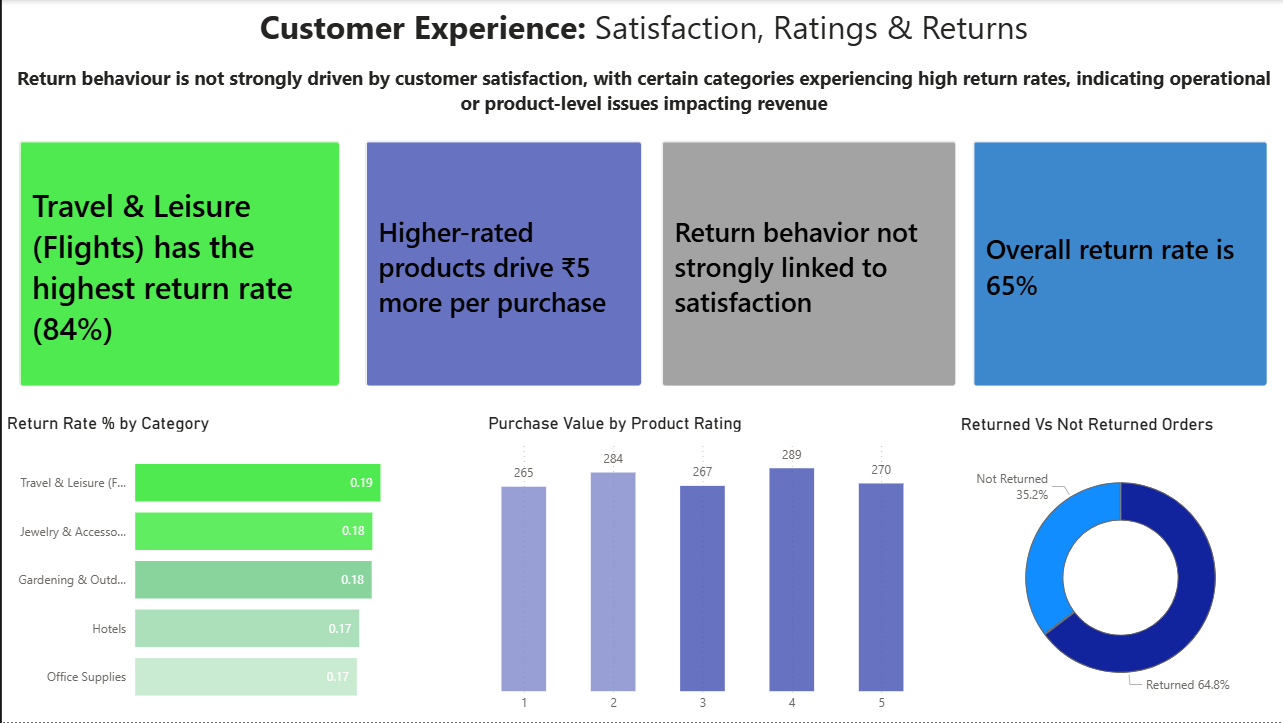

The dashboard page shown, as its layout file describes it:
{"tool":"powerbi","page":{"name":"Customer Experience","canvas":[1280,720],"ordinal":4},"visuals":[{"type":"textbox","box":[0,0,1280.3,123.1],"z":0},{"type":"cardVisual","fields":{"Data":["ecommerce_cleaned.Top Return Category Insight"]},"box":[0,123.1,354,279.1],"z":1000},{"type":"cardVisual","fields":{"Data":["ecommerce_cleaned.Satisfaction Insight"]},"box":[345.1,123.1,310.9,279.1],"z":2000},{"type":"cardVisual","fields":{"Data":["ecommerce_cleaned.Return Behavior Insight"]},"box":[640.8,123.1,328.6,279.1],"z":3000},{"type":"cardVisual","fields":{"Data":["ecommerce_cleaned.Return Rate Insight"]},"box":[951.4,123.1,328.6,279.1],"z":4000},{"type":"barChart","fields":{"Category":["ecommerce_cleaned.Purchase_Category"],"Y":["ecommerce_cleaned.Return Rate %"]},"box":[0,411.7,480.3,308.1],"z":5000},{"type":"columnChart","title":"Purchase Value by Product Rating","fields":{"Category":["ecommerce_cleaned.Product_Rating"],"Y":["ecommerce_cleaned.APV"]},"box":[480.3,411.7,437.5,308.1],"z":6000},{"type":"donutChart","title":"Returned Vs Not Returned Orders","fields":{"Category":["Customer Summary.Customer Return Status"],"Y":["CountNonNull(Customer Summary.Customer_ID)"]},"box":[951,412,329,308],"z":7000}]}

Visuals, with their boxes in screenshot pixels (x1, y1, x2, y2), scaled from the page's 1280x720 canvas onto the 1283x723 screenshot:
textbox: bbox=[0, 0, 1282, 124]
cardVisual - ecommerce_cleaned.Top Return Category Insight: bbox=[0, 124, 355, 404]
cardVisual - ecommerce_cleaned.Satisfaction Insight: bbox=[346, 124, 658, 404]
cardVisual - ecommerce_cleaned.Return Behavior Insight: bbox=[642, 124, 972, 404]
cardVisual - ecommerce_cleaned.Return Rate Insight: bbox=[954, 124, 1282, 404]
barChart - ecommerce_cleaned.Purchase_Category x ecommerce_cleaned.Return Rate %: bbox=[0, 413, 481, 722]
"Purchase Value by Product Rating" columnChart: bbox=[481, 413, 920, 722]
"Returned Vs Not Returned Orders" donutChart: bbox=[953, 414, 1282, 722]
